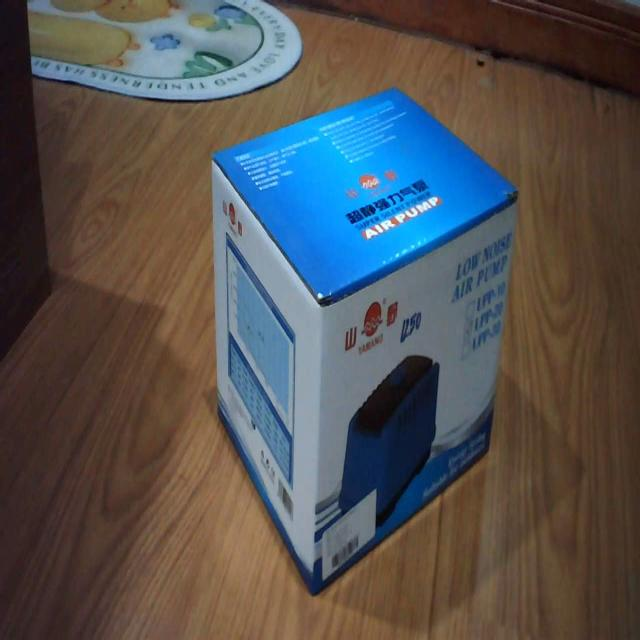YAMANO_LPP_20: (201, 72, 523, 609)
